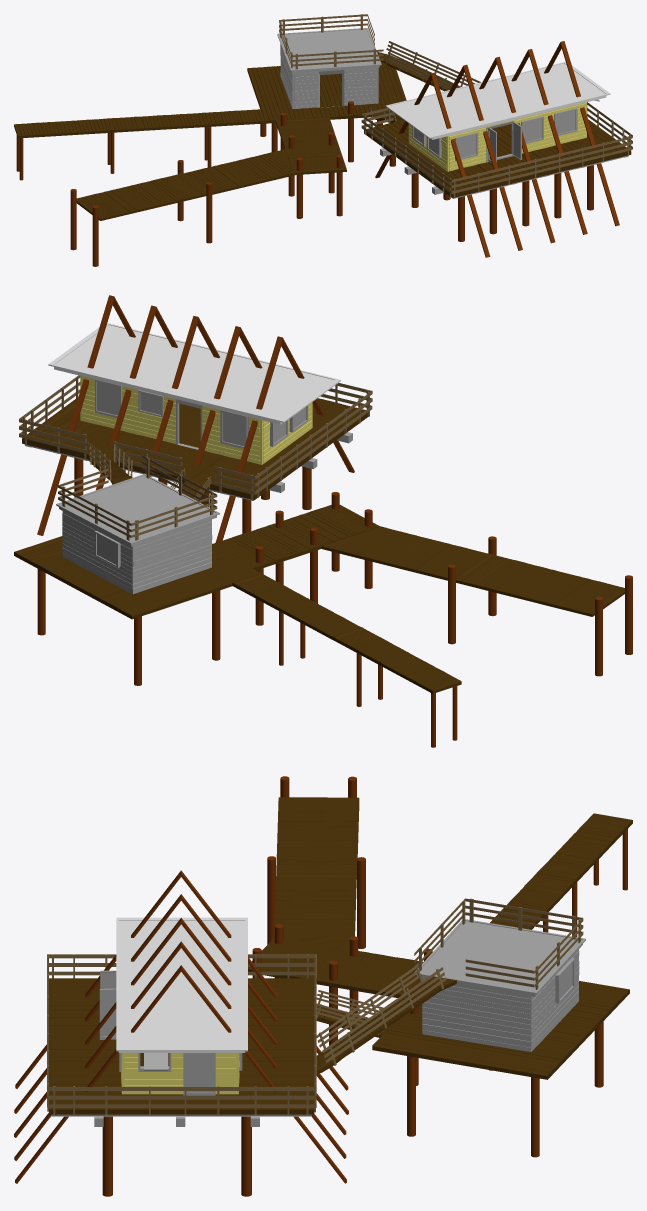
The model's file is A-Frame.fbx.
3 views of the same model, one above another, from view 1: azimuth 30°, elevation 25°; view 2: azimuth 150°, elevation 25°; view 3: azimuth 270°, elevation 25° (orthographic). The views are drawn at different scales.
Visible parts, largest first — view 1: pPlane1, pCube164, pCube177, pPlane2, pCube191, pCube181, pCube234, pCube186, pCube144, pCube188, pCube180, pCube12 (+16 smaller); view 2: pPlane1, pCube164, pCube234, pCube177, pPlane2, pCube191, pCube181, pCube144, pCube186, pCube188, pCube180, pCube12 (+13 smaller); view 3: pCube164, pPlane1, pCube177, pCube234, pPlane2, pCube191, pCube186, pCube181, pCube188, pCube144, pCube7, pCube192 (+20 smaller).
Boxes of the visible parts, x1,y1,x2,y2 form: pPlane1: (385, 62, 610, 139); pCube164: (364, 119, 631, 198); pCube177: (247, 62, 406, 123); pPlane2: (277, 28, 381, 73); pCube191: (76, 173, 206, 220); pCube181: (276, 117, 346, 174); pCube234: (280, 44, 378, 108); pCube186: (183, 149, 295, 194); pCube144: (408, 102, 586, 171); pCube188: (14, 116, 141, 138); pCube180: (137, 109, 264, 130); pCube12: (375, 72, 490, 257); pPlane1: (48, 323, 340, 424); pCube164: (22, 397, 368, 500); pCube234: (62, 511, 212, 594); pCube177: (14, 536, 260, 619); pPlane2: (56, 474, 219, 546); pCube191: (456, 553, 624, 616); pCube181: (212, 505, 379, 570); pCube144: (80, 376, 312, 464); pCube186: (321, 526, 487, 580); pCube188: (332, 627, 461, 693); pCube180: (232, 573, 360, 639); pCube12: (215, 336, 354, 542); pCube164: (49, 978, 314, 1114); pPlane1: (116, 917, 247, 1052); pCube177: (372, 981, 629, 1079); pCube234: (422, 949, 579, 1051); pPlane2: (414, 919, 585, 996); pCube191: (276, 797, 359, 879); pCube186: (274, 876, 356, 949); pCube181: (248, 938, 423, 997); pCube188: (524, 813, 632, 895); pCube144: (121, 1053, 239, 1094); pCube7: (15, 965, 346, 1183); pCube192: (313, 976, 456, 1073).
Size of the model in its own units: 511 by 167 by 396.
